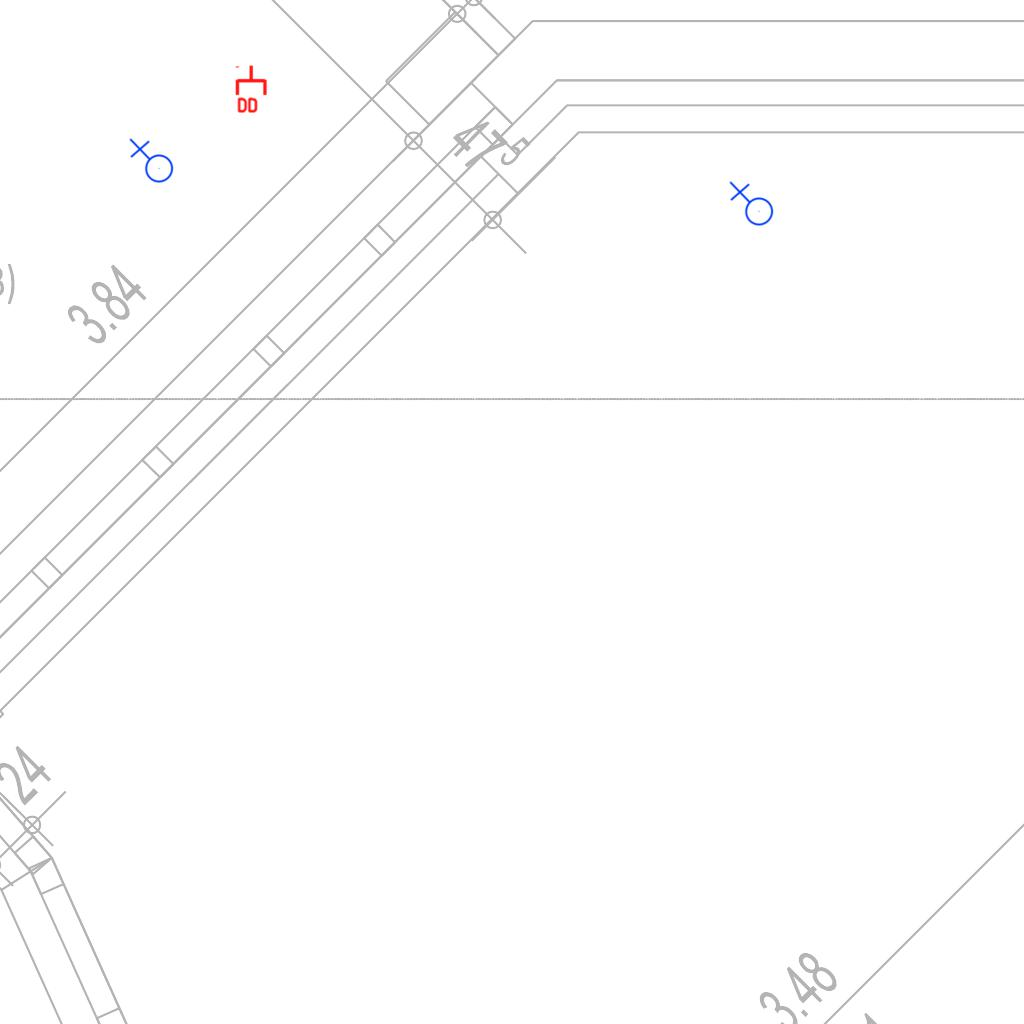Datenanschluss_zweifach: (235, 64, 269, 115)
Elektroanschluss_allgemein_230V_Geraeteanschlussdose_230V: (727, 181, 774, 230), (127, 138, 174, 187)
